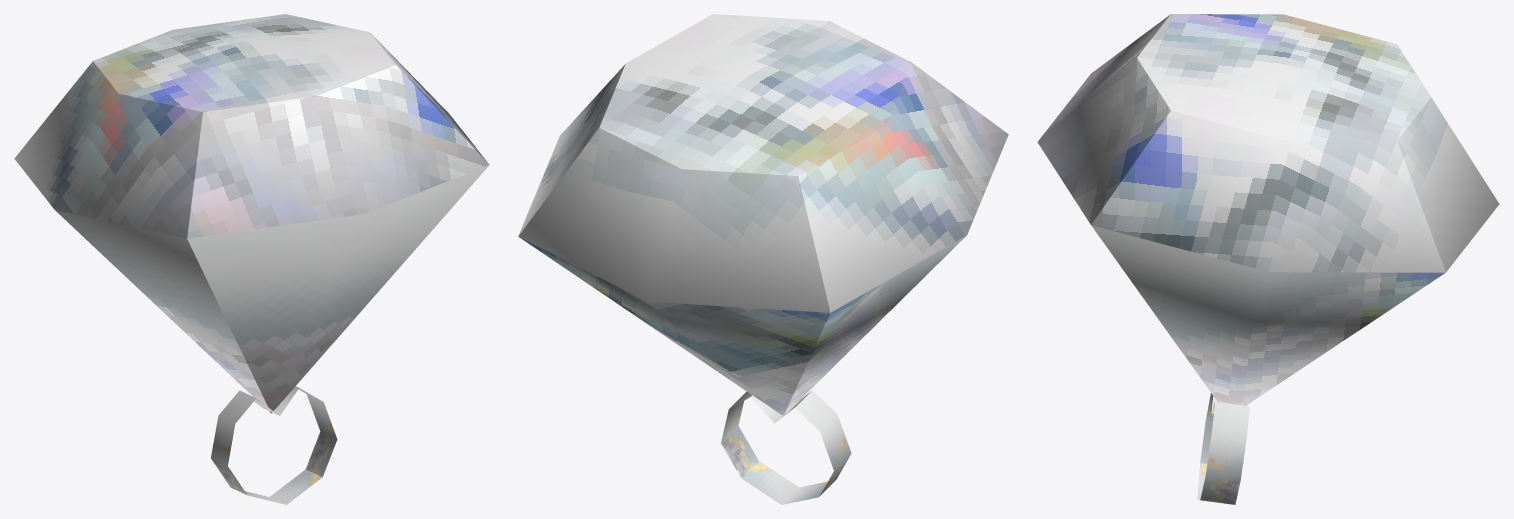
Rendered from ring_0600004.FBX.
3 renders of one model, left to right at view 1: azimuth 30°, elevation 25°; view 2: azimuth 150°, elevation 25°; view 3: azimuth 270°, elevation 25°, orthographic. The views are drawn at different scales.
Parts seen in each view (by area): view 1: ring_0600004; view 2: ring_0600004; view 3: ring_0600004.
Boxes of the visible parts, left/top/right/bottom form: ring_0600004: left=14, top=14, right=489, bottom=504; ring_0600004: left=518, top=14, right=1008, bottom=504; ring_0600004: left=1037, top=14, right=1499, bottom=504.
Size of the model in its own units: 8.94 by 9.42 by 8.83.
